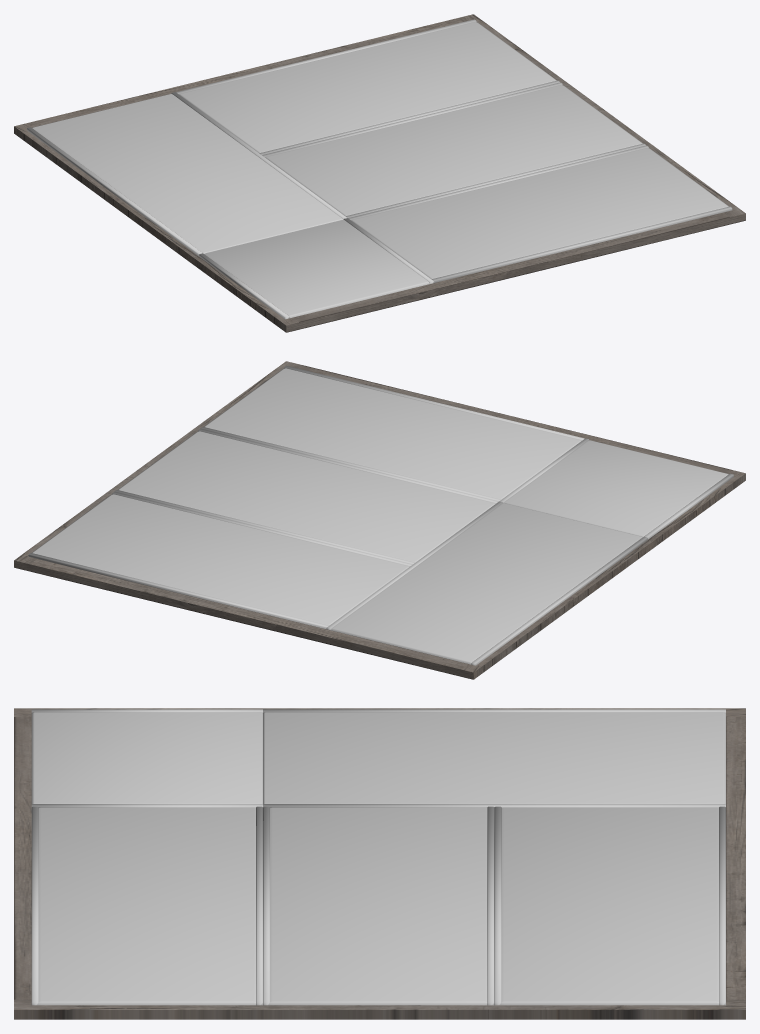
Rendered from jov_tatami_4.5ta.fbx.
3 renders of one model, top to bottom at view 1: azimuth 30°, elevation 25°; view 2: azimuth 150°, elevation 25°; view 3: azimuth 270°, elevation 25°, orthographic. The views are drawn at different scales.
Parts seen in each view (by area): view 1: jov_tatami_4.5ta; view 2: jov_tatami_4.5ta; view 3: jov_tatami_4.5ta.
Part boxes in pixels (bbox=[...]): jov_tatami_4.5ta: bbox=[14, 14, 745, 332]; jov_tatami_4.5ta: bbox=[14, 361, 745, 679]; jov_tatami_4.5ta: bbox=[14, 708, 745, 1019].
Bounding box in the file's own units: 330 × 6.5 × 339.
